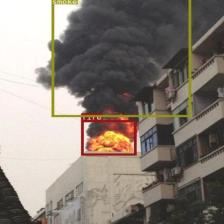fire: (81, 120, 136, 155)
smoke: (51, 0, 190, 117)
